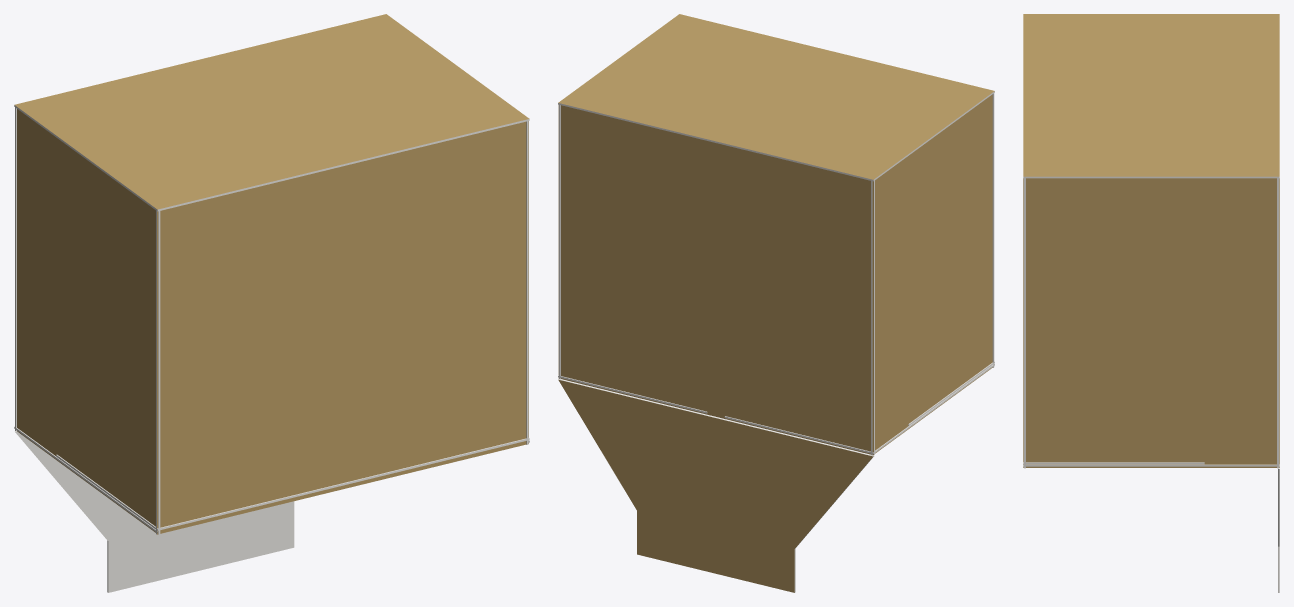
3 renders of one model, left to right at view 1: azimuth 30°, elevation 25°; view 2: azimuth 150°, elevation 25°; view 3: azimuth 270°, elevation 25°, orthographic. The views are drawn at different scales.
Parts seen in each view (by area): view 1: Packive_Box_fefco0217; view 2: Packive_Box_fefco0217; view 3: Packive_Box_fefco0217.
Part boxes in pixels (x1,y1,x2,y2): Packive_Box_fefco0217: (14,14,529,592); Packive_Box_fefco0217: (558,14,994,592); Packive_Box_fefco0217: (1023,14,1279,592).
Bounding box in the file's own units: 0.3 × 0.393 × 0.2.
26 materials, 13 textured.
